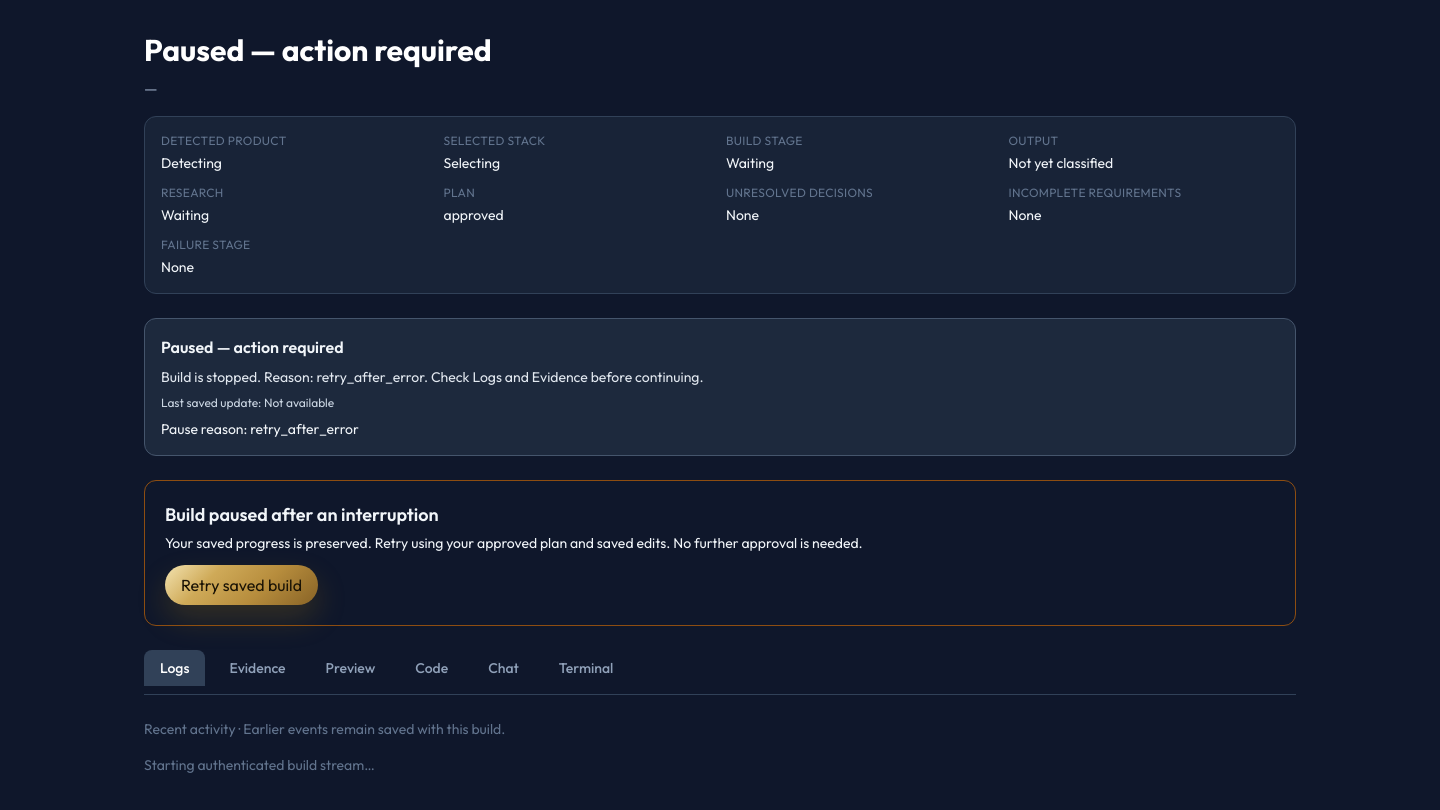
Test: saved build recovery screen › offers a single retry for an interrupted build whose decisions are already approved
This screenshot has width=1440, height=810.
Check: the element with test id "build-retry-panel" does not show "Complete the approvals", box [144,480,1296,626]
Click the button "Retry saved build" at (242,585), box [165,565,318,605]
(page scrolled)
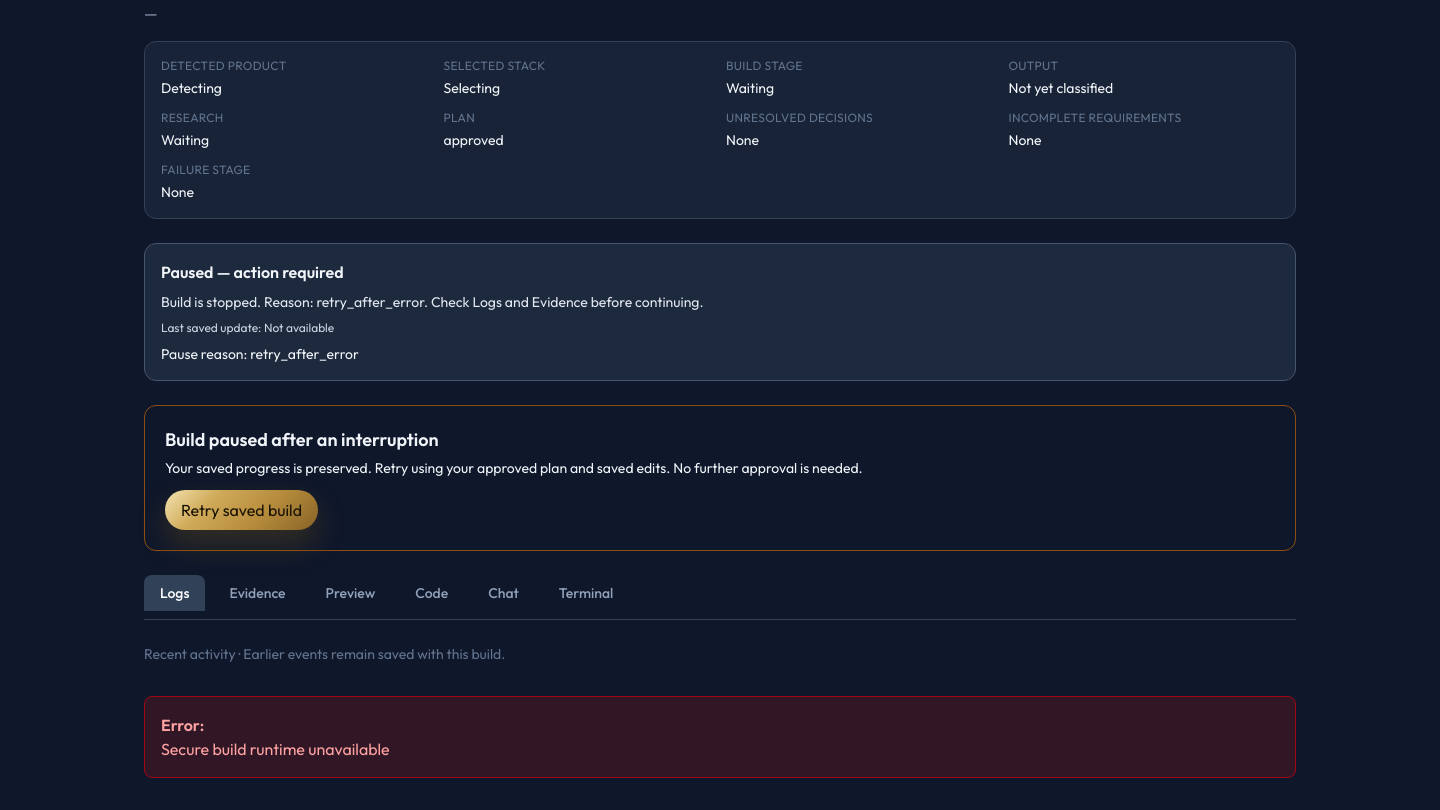
Check: the text "Secure build runtime unavailable" is shown, box [161,739,390,759]
